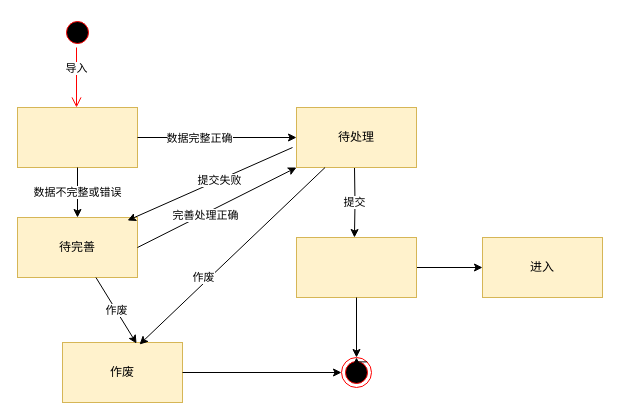
Image size: 620x420. Some labels were removed from this diagram. Here are the shapes that lost their labels. From the top down, the box of each, then its label:
(16, 106, 138, 168): 解析
(296, 236, 416, 298): 已处理
